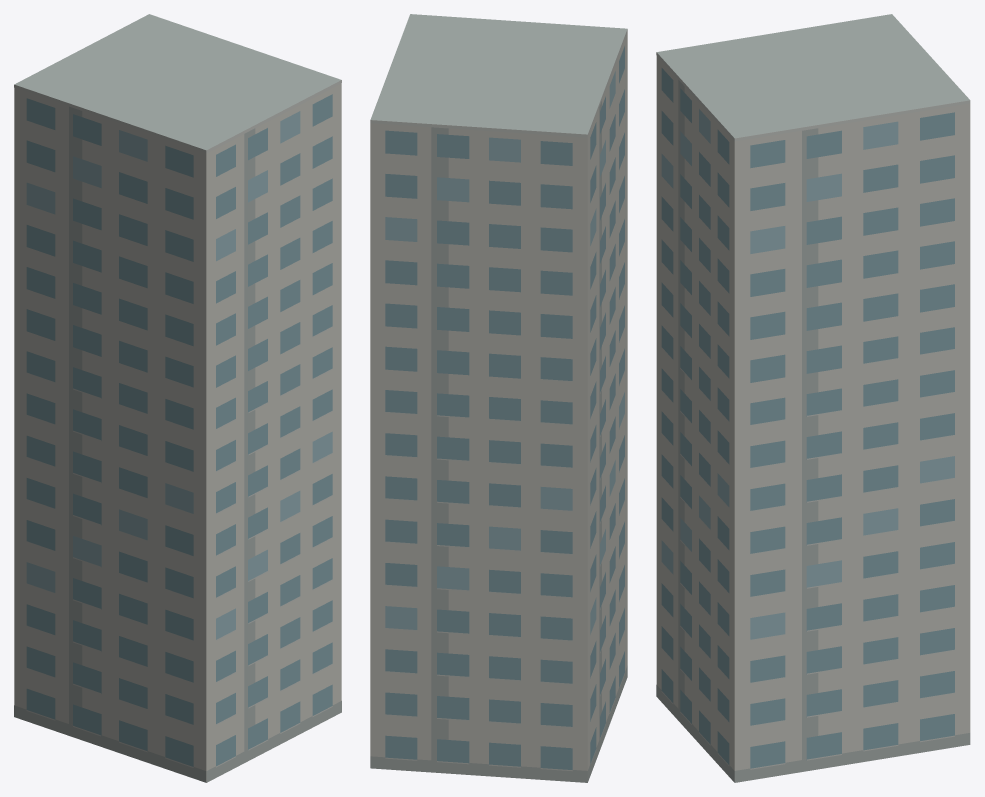
File: residential-cfc5a6c8-7f2e-46d0-b362-a1cd088bfac0.glb
3 views of the same model, side by side, from view 1: azimuth 30°, elevation 25°; view 2: azimuth 150°, elevation 25°; view 3: azimuth 270°, elevation 25° (orthographic). The views are drawn at different scales.
Visible parts, largest first — view 1: residential-cfc5a6c8-7f2e-46d0-b362-a1cd088bfac0.tmp; view 2: residential-cfc5a6c8-7f2e-46d0-b362-a1cd088bfac0.tmp; view 3: residential-cfc5a6c8-7f2e-46d0-b362-a1cd088bfac0.tmp.
Boxes of the visible parts, x1,y1,x2,y2 form: residential-cfc5a6c8-7f2e-46d0-b362-a1cd088bfac0.tmp: (14,14,341,782); residential-cfc5a6c8-7f2e-46d0-b362-a1cd088bfac0.tmp: (370,14,627,782); residential-cfc5a6c8-7f2e-46d0-b362-a1cd088bfac0.tmp: (656,14,970,782).
Bounding box in the file's own units: 20.31 × 49 × 21.64.
